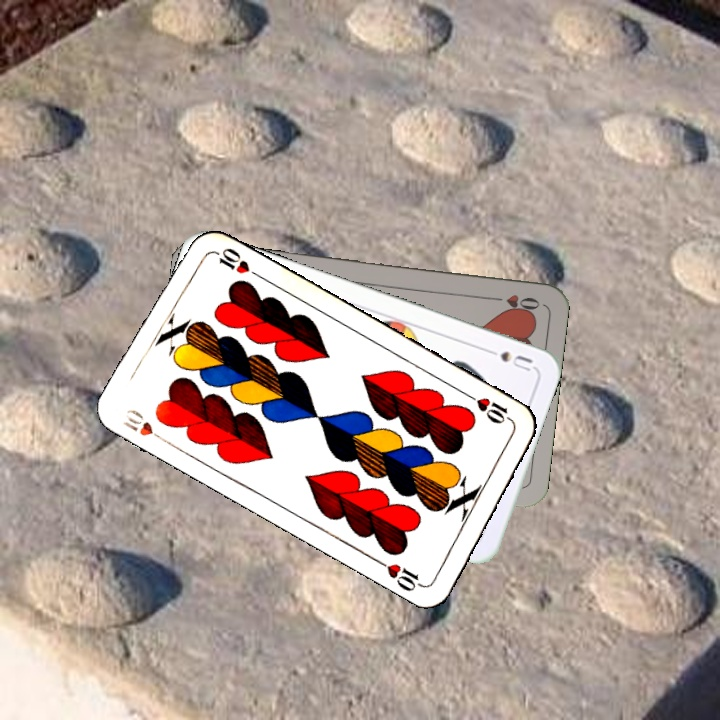H10: (119, 405, 171, 447), (463, 390, 517, 427)
HO: (484, 290, 542, 314)
SU: (479, 343, 535, 374)
